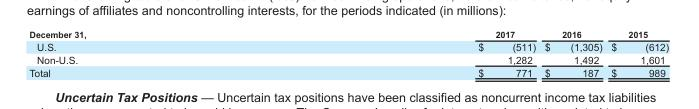table: (28, 29, 668, 77)
table column: (281, 29, 539, 77), (28, 29, 281, 77), (539, 29, 606, 77), (606, 29, 668, 77)
table column header: (28, 29, 668, 40)
table row: (28, 40, 668, 53), (28, 53, 668, 65), (28, 65, 668, 77), (28, 29, 668, 40)
